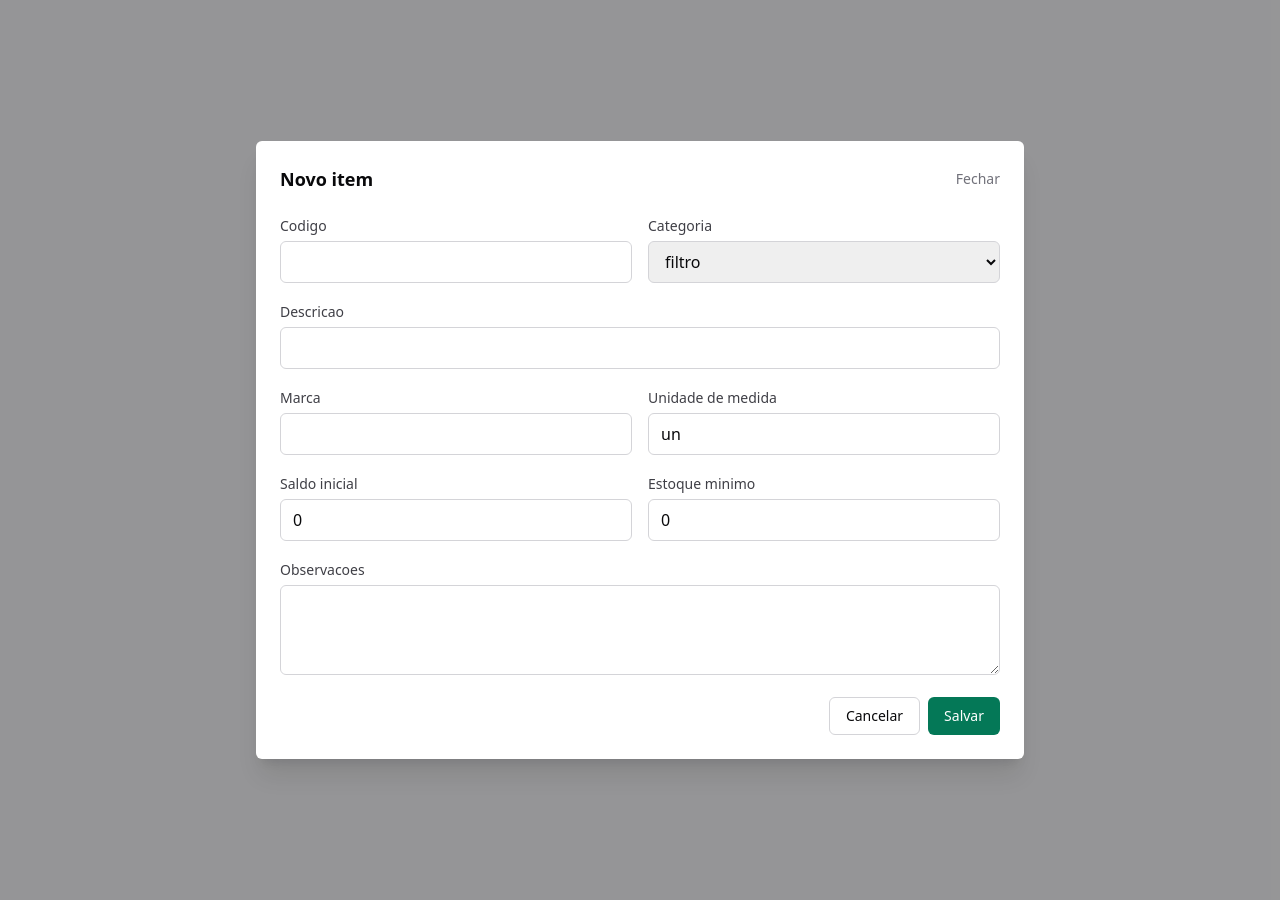
ItemEstoqueFormModal › valida descricao obrigatoria
The width and height of the screenshot is (1280, 900).
Clear the field labelled "Descricao" at (640, 348), box [280,327,1000,369]
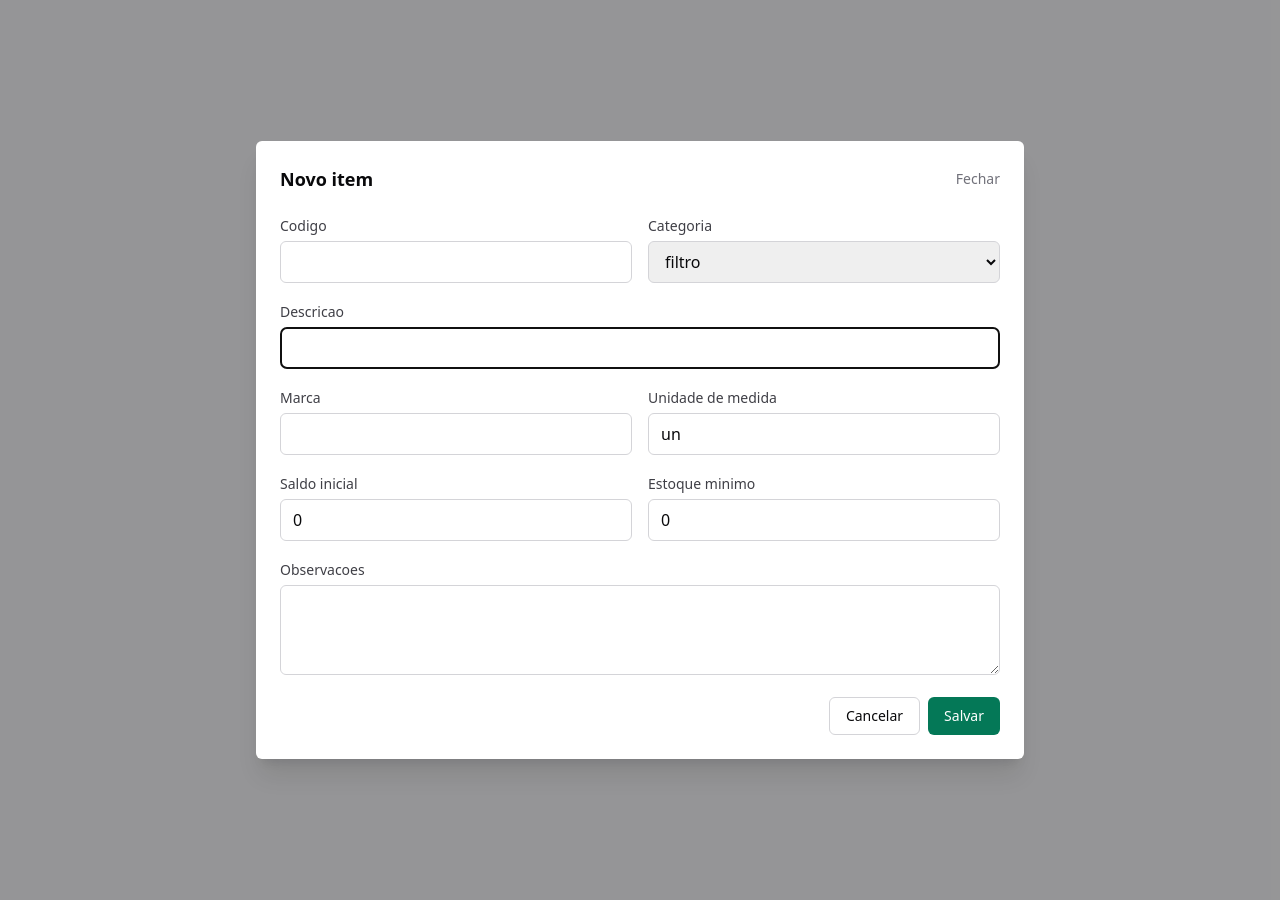
Click the button "Salvar".
click(964, 716)  # box [928,697,1000,735]
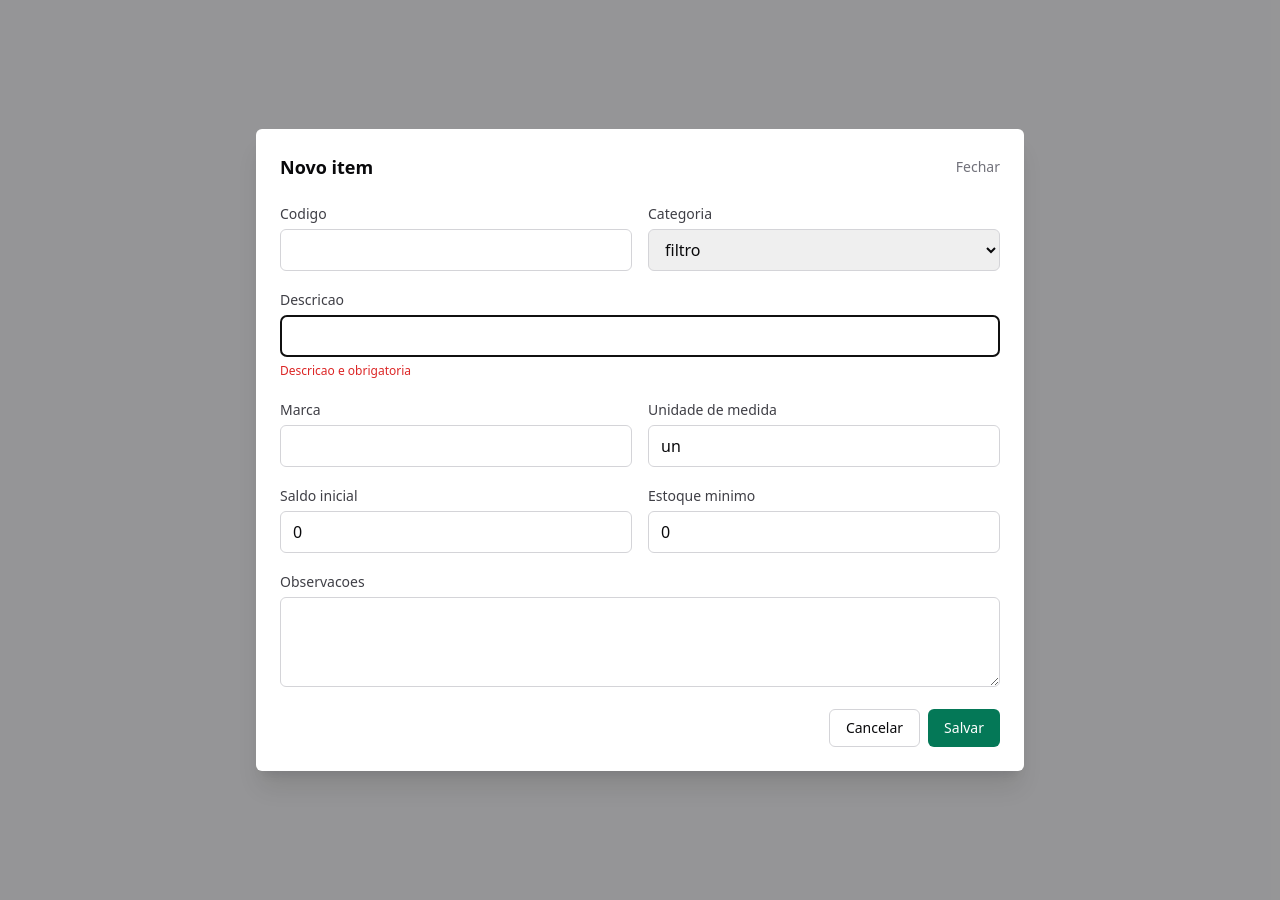
expect the text "Descricao e obrigatoria" is shown: met, box [280,362,411,379]
